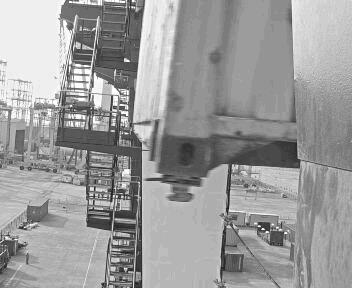twist_lock_1: (116, 159, 154, 192)
